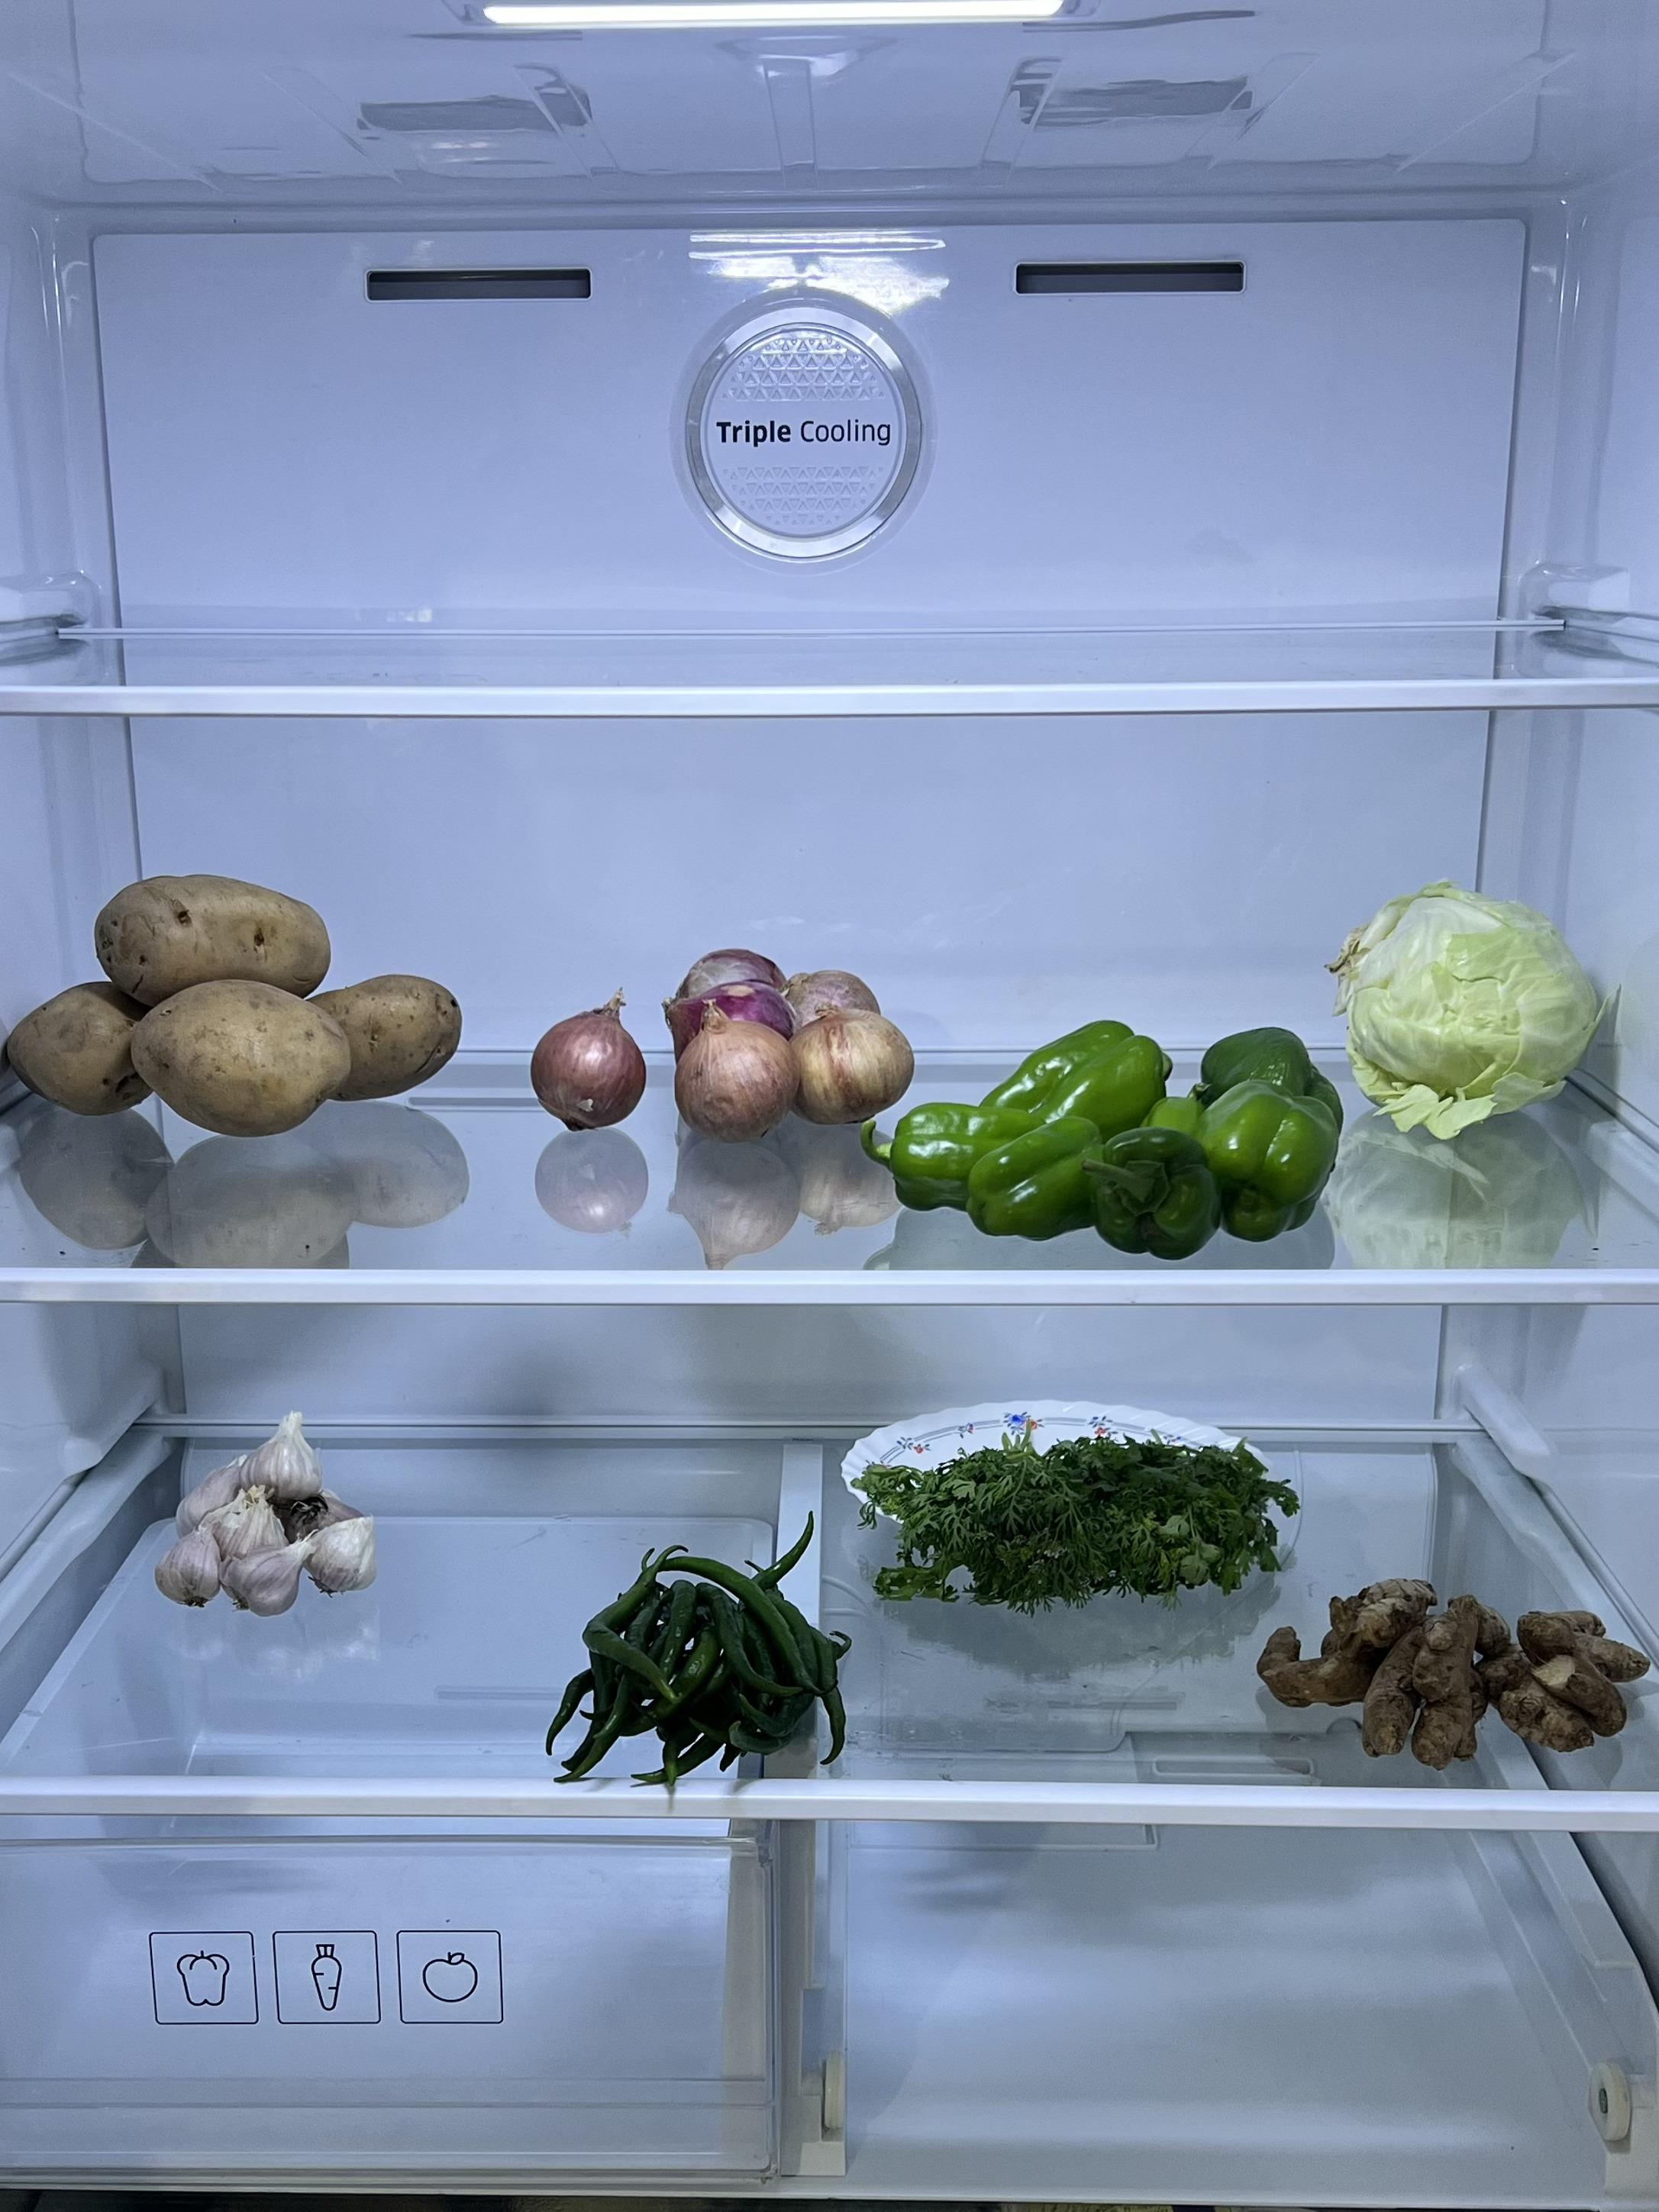cabbage: (1344, 887, 1607, 1104)
capsicum: (890, 1022, 1363, 1247)
chillies: (565, 1536, 863, 1778)
coriander: (854, 1418, 1274, 1604)
garlic: (166, 1409, 373, 1620)
ginger: (1265, 1578, 1643, 1771)
onion: (525, 935, 910, 1129)
potato: (12, 867, 462, 1134)
